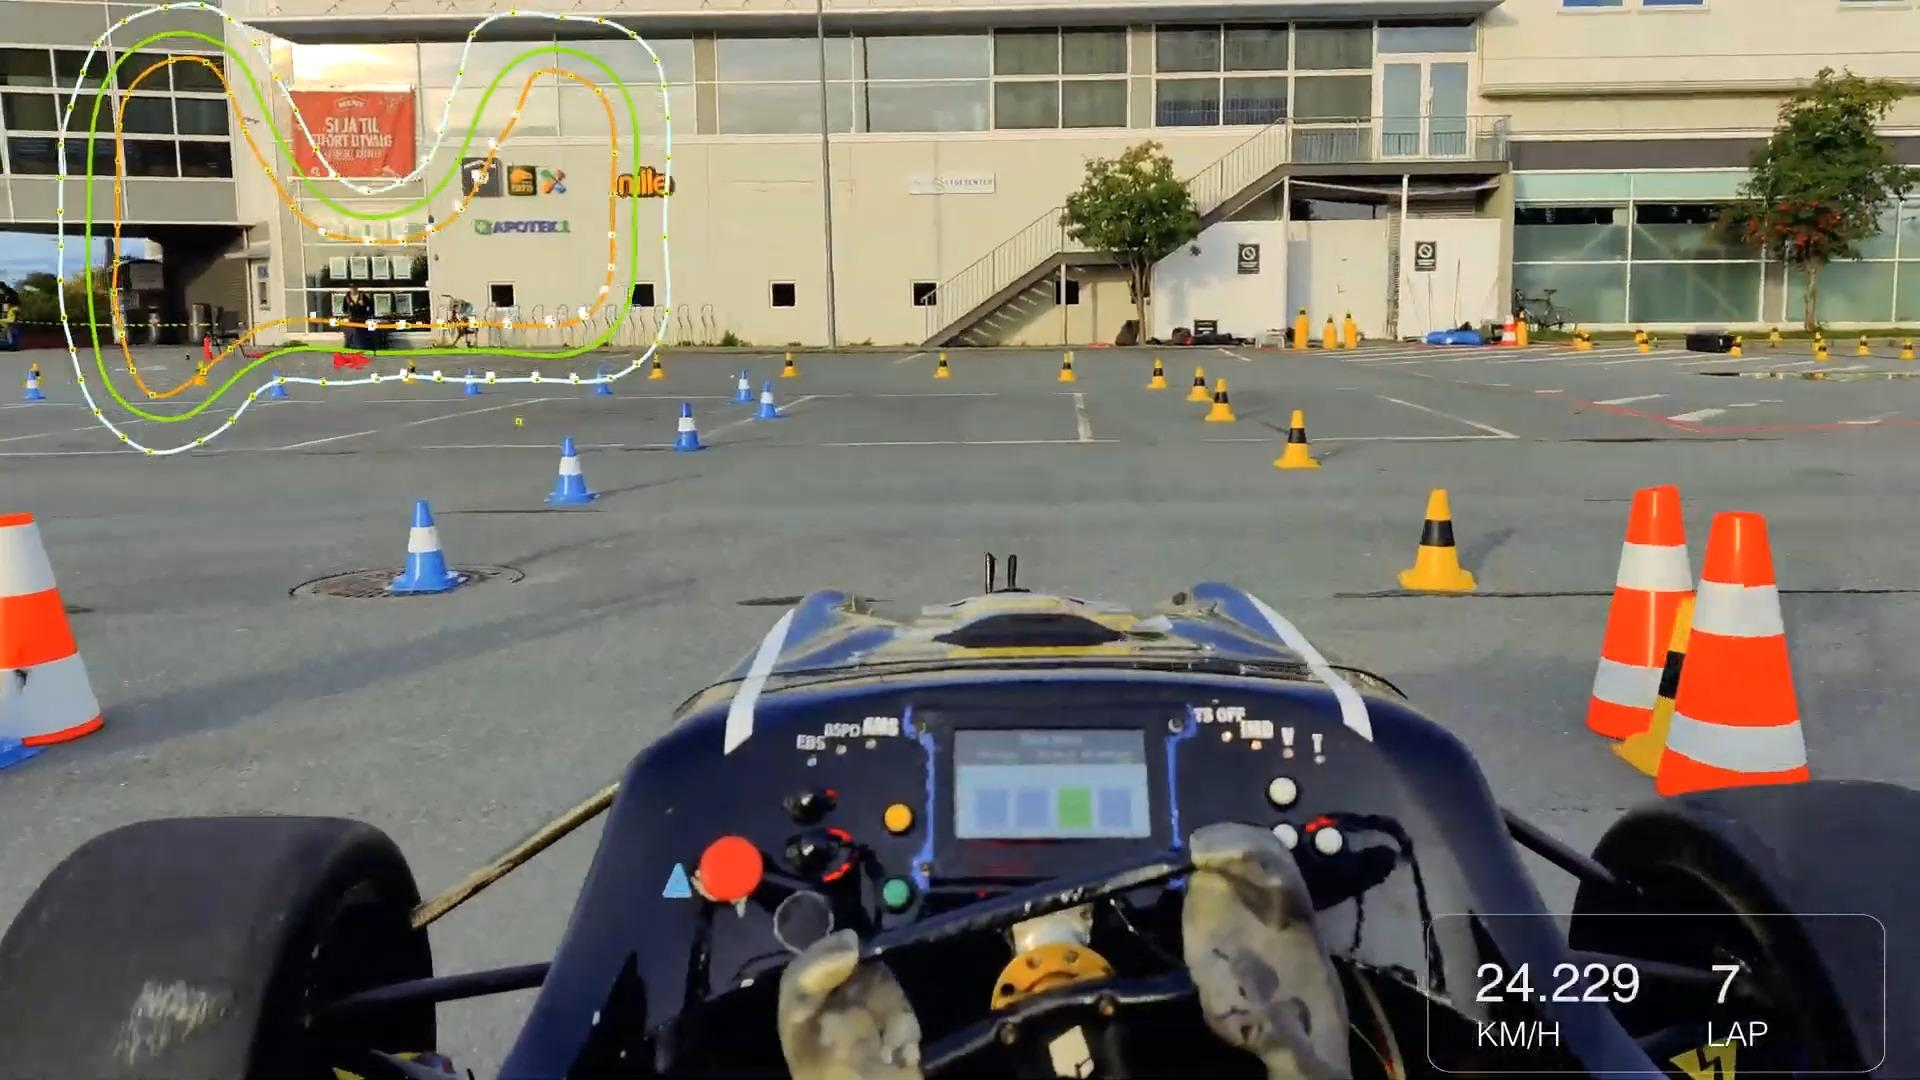blue_cone: (389, 506, 460, 603), (545, 440, 599, 512), (674, 401, 709, 454), (732, 367, 760, 405), (592, 363, 620, 400), (758, 382, 785, 421), (25, 375, 42, 404), (464, 368, 480, 398), (273, 372, 287, 401)
large_orange_cone: (1655, 510, 1809, 836), (1581, 487, 1714, 742), (0, 500, 100, 732), (1501, 314, 1518, 349)
yellow_cone: (1614, 587, 1734, 781), (1402, 487, 1473, 601), (1279, 407, 1328, 473), (1183, 360, 1224, 405), (1204, 381, 1244, 427), (1054, 351, 1083, 385), (1149, 357, 1174, 389), (934, 349, 955, 382), (189, 359, 208, 390), (24, 360, 45, 388), (779, 352, 799, 378), (649, 352, 665, 381), (404, 361, 421, 386), (1812, 342, 1830, 363), (1900, 338, 1916, 361), (1729, 336, 1745, 359), (1811, 330, 1825, 353), (1854, 335, 1870, 356), (1639, 335, 1652, 356), (1323, 310, 1337, 328), (1635, 326, 1648, 345), (1298, 303, 1308, 320), (1345, 309, 1356, 326), (1516, 311, 1526, 328)
